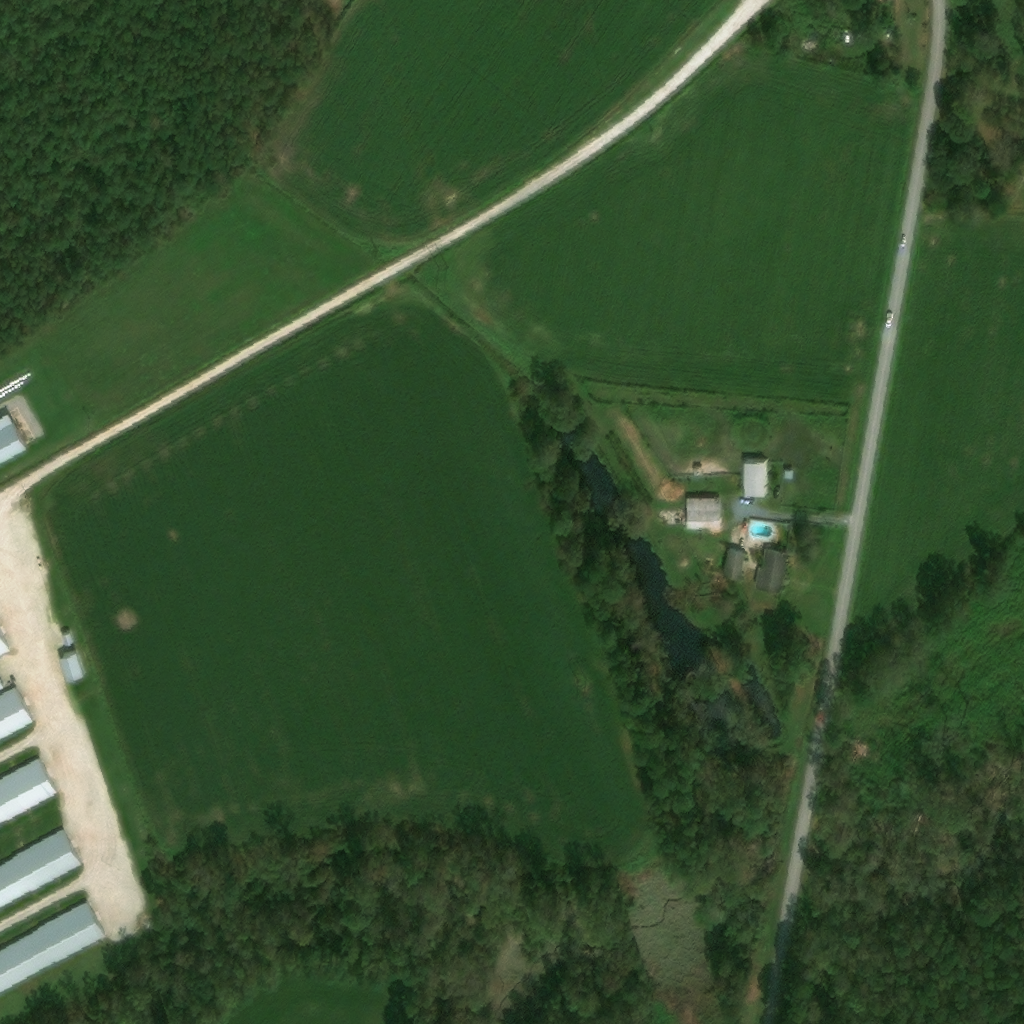no_damage: (1, 898, 108, 996), (1, 828, 85, 910), (1, 757, 60, 826), (1, 686, 36, 743), (1, 412, 28, 462), (755, 548, 785, 590), (684, 496, 721, 528), (742, 460, 771, 495), (58, 651, 88, 680), (723, 548, 744, 576), (1, 634, 11, 659), (64, 631, 75, 644), (782, 469, 792, 479), (693, 465, 702, 475)
